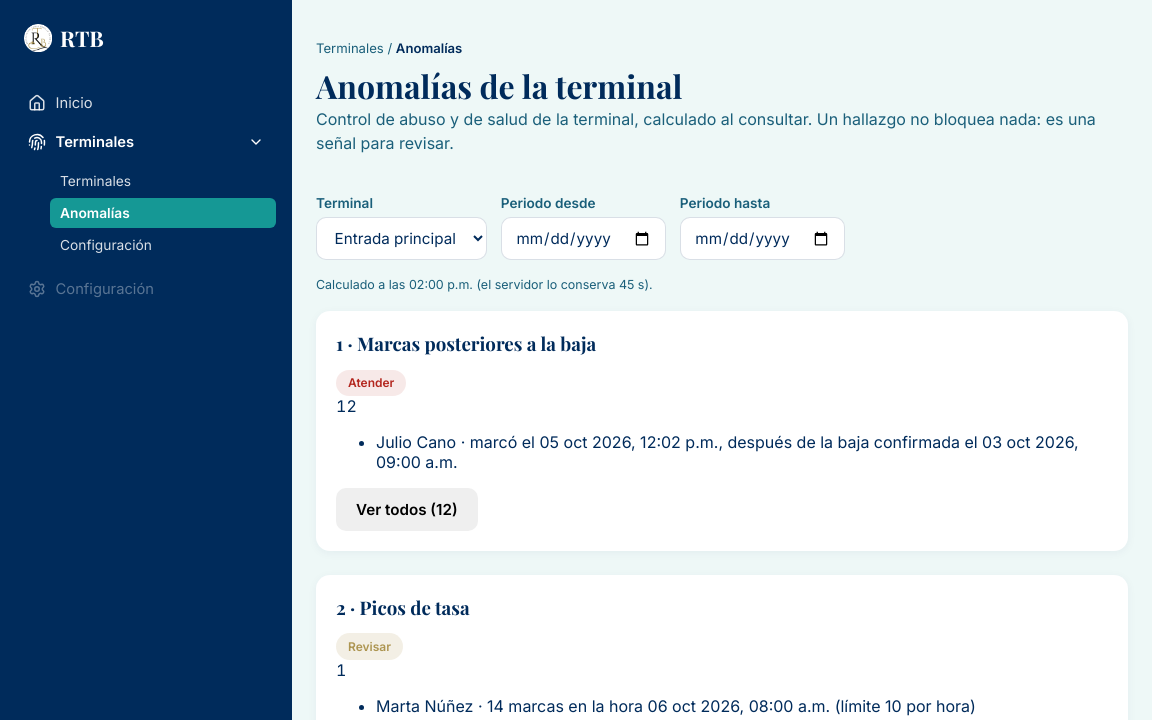
Test case: AnomaliasTerminalesPage › ver todos › pide el detalle de la categoría con limite y desplazamiento y lo lista
Expected: the heading "1 · Marcas posteriores a la baja" is shown, [336,331,596,356]
Click the button "Ver todos (12)" at (407, 509), box [336,488,478,531]
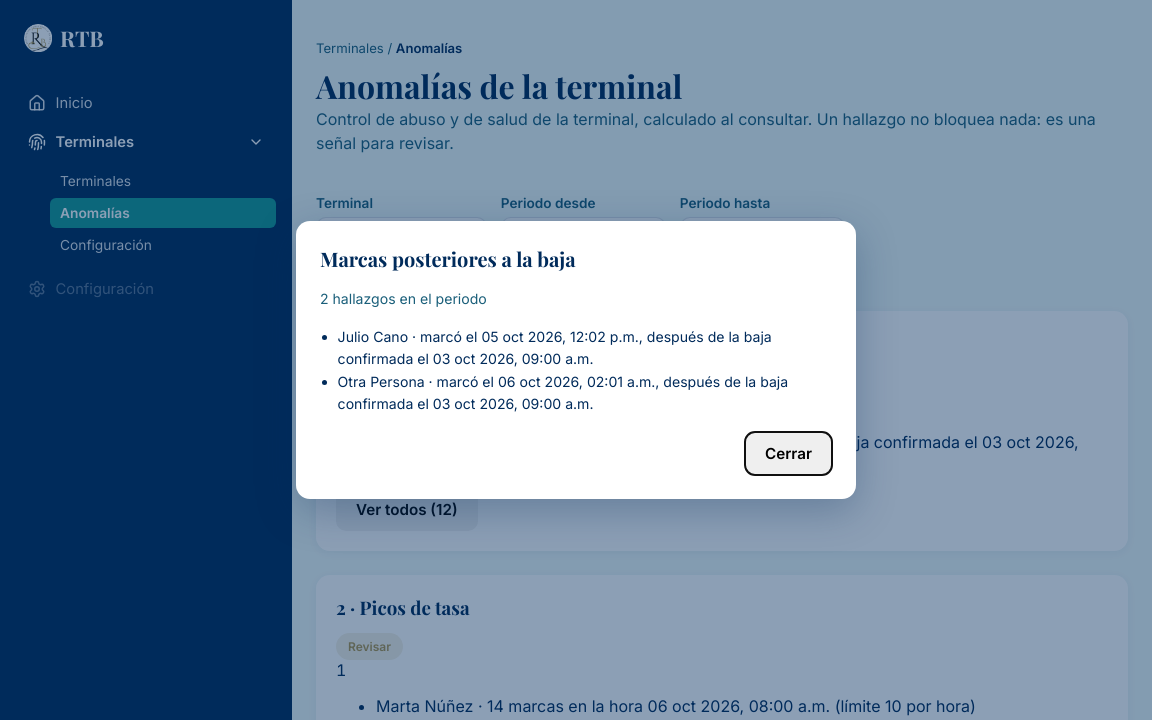
Now the list item "Otra Persona" is shown, box [338,372,788,412]
